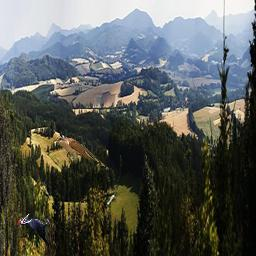Cuckoo: (53, 136, 110, 170)
Woodpecker: (17, 214, 51, 251)
